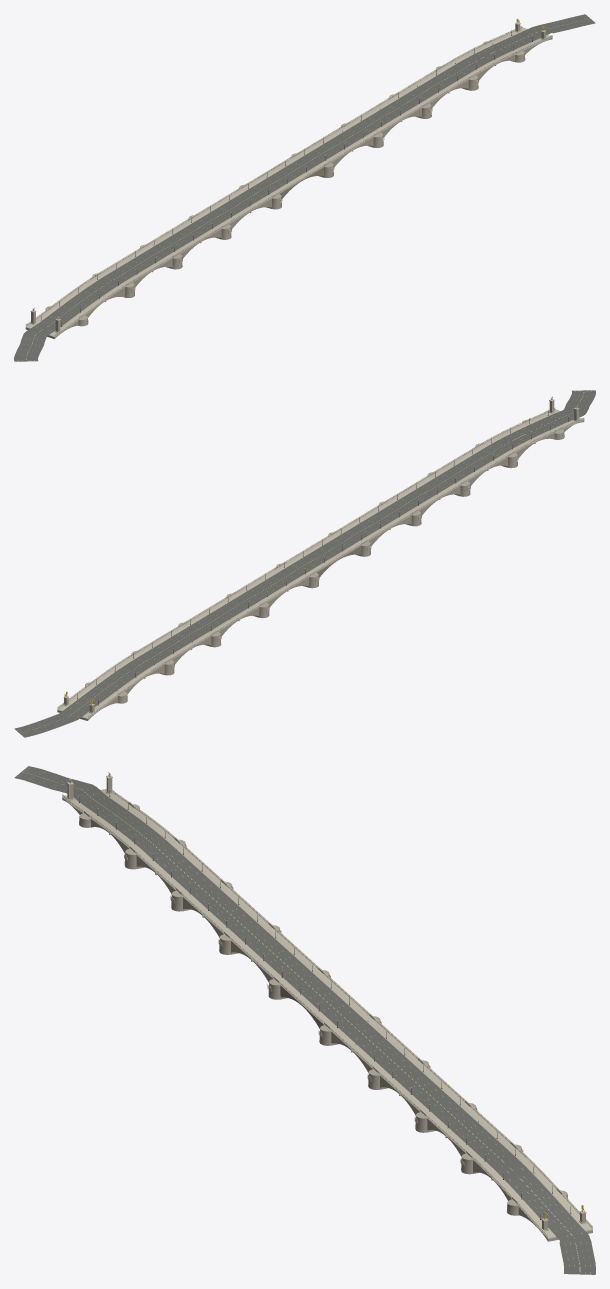
Rendered from arlington-memorial-bridge-near.glb.
The picture shows the model from 3 angles, top to bottom: view 1: azimuth 30°, elevation 25°; view 2: azimuth 210°, elevation 25°; view 3: azimuth 270°, elevation 25°; orthographic projection. The views are drawn at different scales.
Visible parts, largest first — view 1: arlington-memorial-bridge-2-asphalt, arlington-memorial-bridge-0-asphalt, arlington-memorial-bridge-2-trim, arlington-memorial-bridge-1-asphalt, arlington-memorial-bridge-0-trim, arlington-memorial-bridge-1-trim, arlington-memorial-bridge-2-stone, arlington-memorial-bridge-0-stone, arlington-memorial-bridge-1-stone, arlington-memorial-bridge-3-stone; view 2: arlington-memorial-bridge-2-asphalt, arlington-memorial-bridge-2-trim, arlington-memorial-bridge-0-asphalt, arlington-memorial-bridge-1-asphalt, arlington-memorial-bridge-1-trim, arlington-memorial-bridge-0-trim, arlington-memorial-bridge-2-stone, arlington-memorial-bridge-0-stone, arlington-memorial-bridge-1-stone, arlington-memorial-bridge-3-stone; view 3: arlington-memorial-bridge-2-asphalt, arlington-memorial-bridge-2-trim, arlington-memorial-bridge-0-asphalt, arlington-memorial-bridge-1-asphalt, arlington-memorial-bridge-1-trim, arlington-memorial-bridge-0-trim, arlington-memorial-bridge-2-stone, arlington-memorial-bridge-0-stone, arlington-memorial-bridge-1-stone, arlington-memorial-bridge-3-stone.
Part boxes in pixels (<box>): arlington-memorial-bridge-2-asphalt: <box>279,14,595,176</box>; arlington-memorial-bridge-0-asphalt: <box>14,245,173,361</box>; arlington-memorial-bridge-2-trim: <box>274,26,552,177</box>; arlington-memorial-bridge-1-asphalt: <box>155,171,298,250</box>; arlington-memorial-bridge-0-trim: <box>25,242,182,336</box>; arlington-memorial-bridge-1-trim: <box>150,167,304,252</box>; arlington-memorial-bridge-2-stone: <box>274,27,552,178</box>; arlington-memorial-bridge-0-stone: <box>25,243,182,338</box>; arlington-memorial-bridge-1-stone: <box>150,168,304,258</box>; arlington-memorial-bridge-3-stone: <box>429,24,552,107</box>; arlington-memorial-bridge-2-asphalt: <box>14,553,329,737</box>; arlington-memorial-bridge-2-trim: <box>57,549,336,718</box>; arlington-memorial-bridge-0-asphalt: <box>435,390,595,483</box>; arlington-memorial-bridge-1-asphalt: <box>311,478,453,558</box>; arlington-memorial-bridge-1-trim: <box>305,474,459,559</box>; arlington-memorial-bridge-0-trim: <box>427,399,584,490</box>; arlington-memorial-bridge-2-stone: <box>57,550,335,718</box>; arlington-memorial-bridge-0-stone: <box>427,396,584,496</box>; arlington-memorial-bridge-1-stone: <box>306,475,460,560</box>; arlington-memorial-bridge-3-stone: <box>57,636,210,720</box>; arlington-memorial-bridge-2-asphalt: <box>313,999,595,1274</box>; arlington-memorial-bridge-2-trim: <box>304,995,592,1237</box>; arlington-memorial-bridge-0-asphalt: <box>14,766,219,894</box>; arlington-memorial-bridge-1-asphalt: <box>192,889,341,1004</box>; arlington-memorial-bridge-1-trim: <box>183,885,349,1005</box>; arlington-memorial-bridge-0-trim: <box>62,775,233,903</box>; arlington-memorial-bridge-2-stone: <box>304,997,592,1238</box>; arlington-memorial-bridge-0-stone: <box>62,772,232,911</box>; arlington-memorial-bridge-1-stone: <box>183,887,349,1006</box>; arlington-memorial-bridge-3-stone: <box>427,1119,592,1241</box>.
Size of the model in its own units: 690 by 16.23 by 333.
